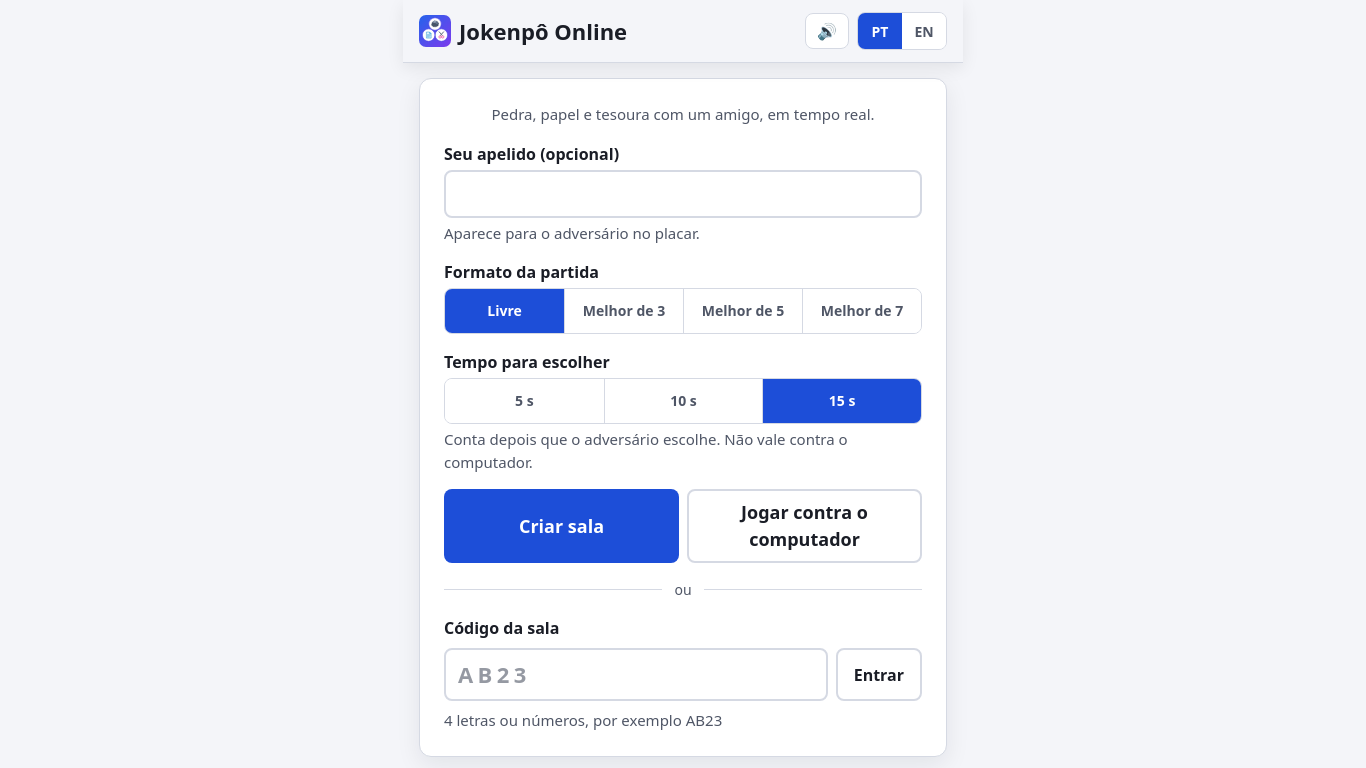
Scenario: espera e jogo › sair durante o jogo pede confirmação
Step 1. Click the button "Criar sala" → (562, 526), box left=444, top=489, right=679, bottom=563
(page scrolled)
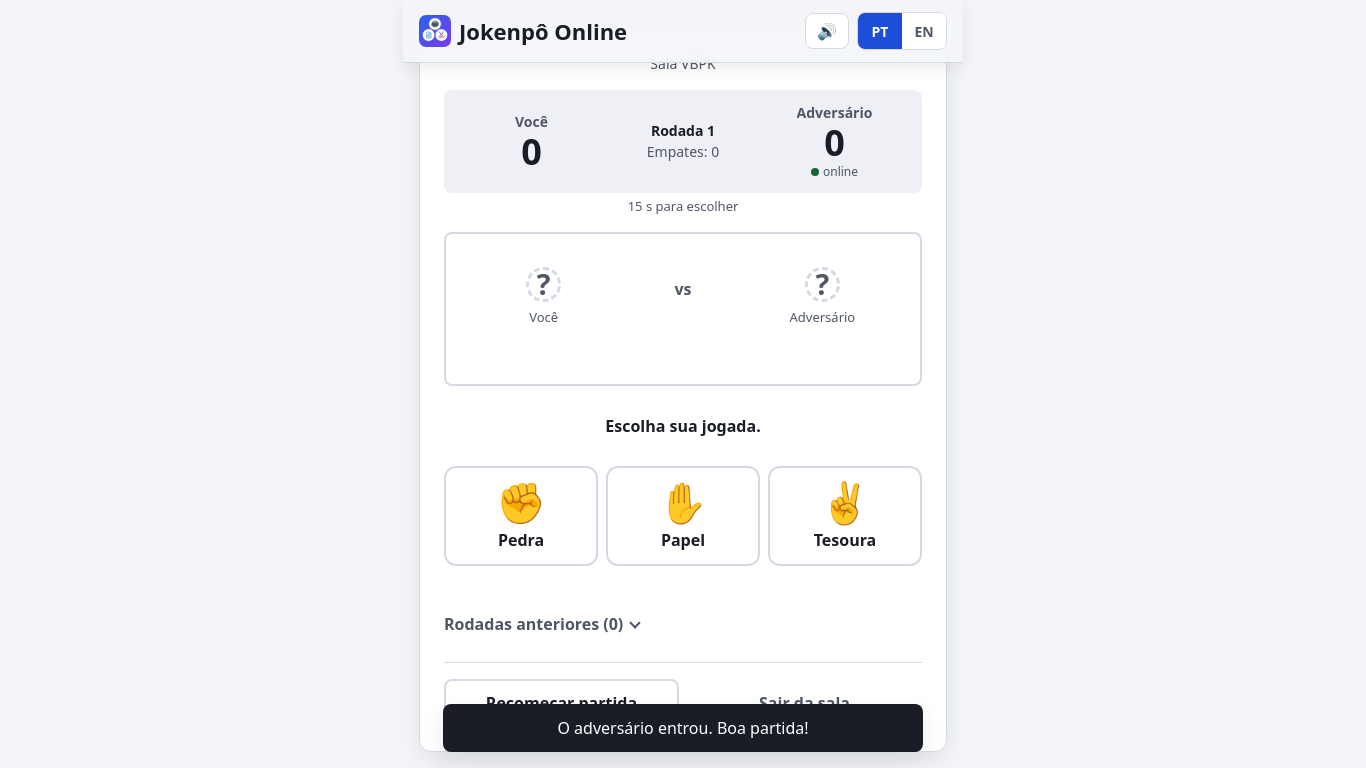
Step 2. Click the button "Sair da sala" → (804, 703), box left=687, top=679, right=922, bottom=727
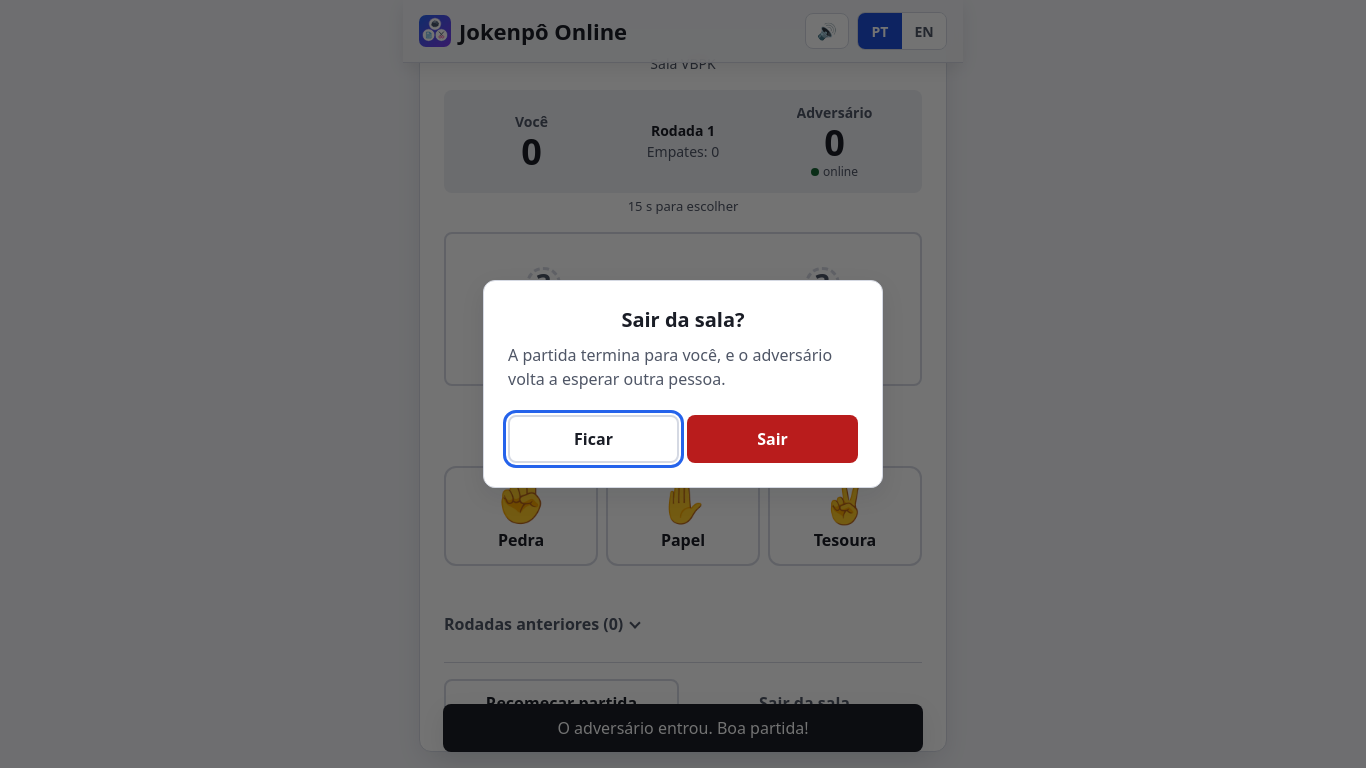
Step 3. Click the button "Sair" → (772, 439), box left=687, top=415, right=858, bottom=463
(page scrolled)
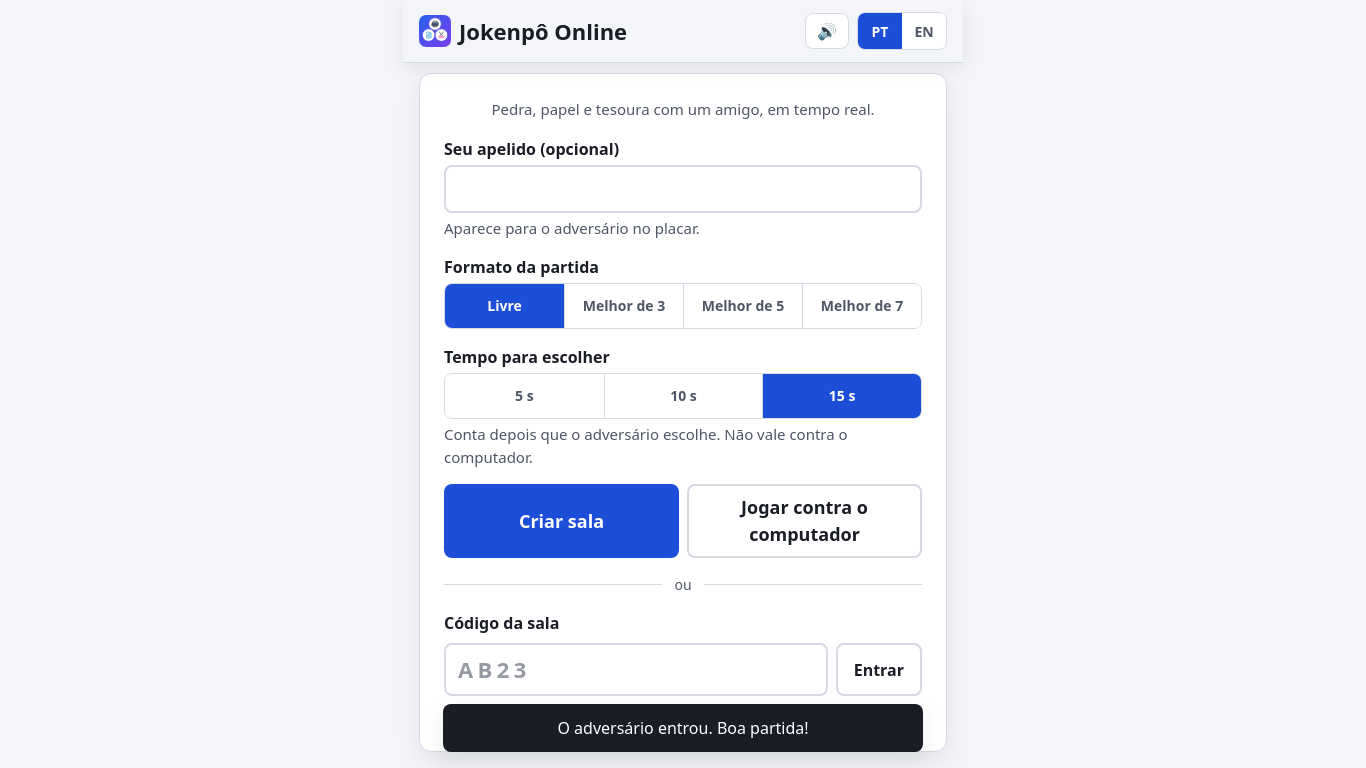
expect the button "Criar sala" is shown: met, box left=444, top=484, right=679, bottom=558
